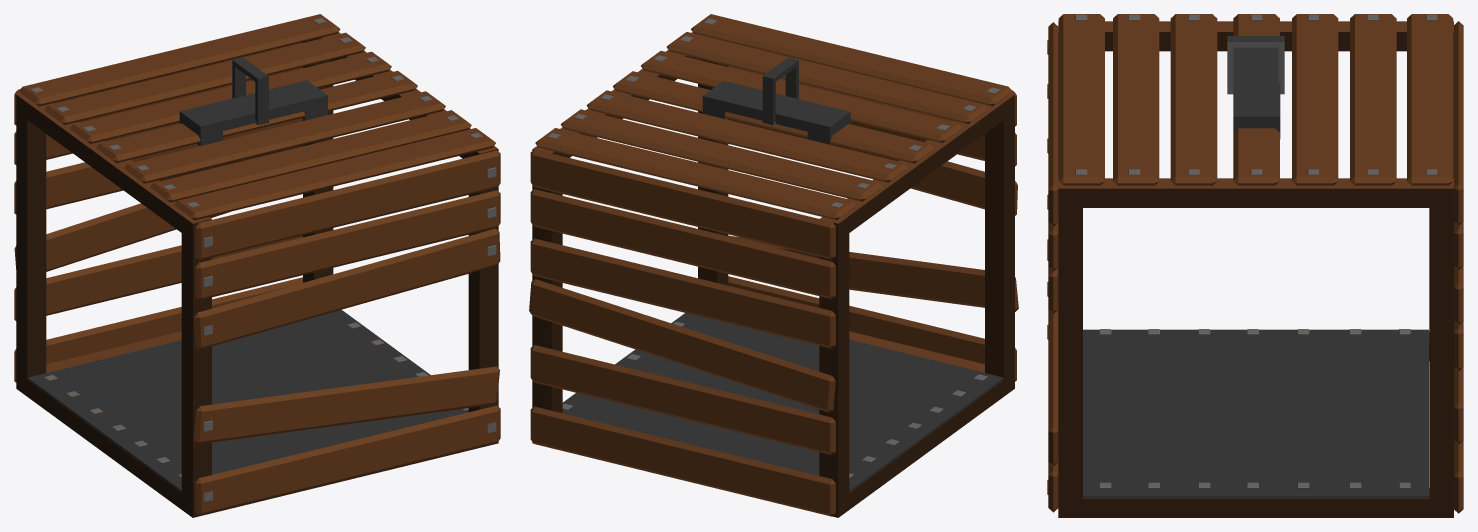
File: WoodElevatorMetalFloor.fbx
The picture shows the model from 3 angles, left to right: view 1: azimuth 30°, elevation 25°; view 2: azimuth 150°, elevation 25°; view 3: azimuth 270°, elevation 25°; orthographic projection. The views are drawn at different scales.
Visible parts, largest first — view 1: Cube, Cube.001; view 2: Cube, Cube.001; view 3: Cube, Cube.001.
Part boxes in pixels (x1,y1,x2,y2): Cube: [14, 14, 500, 517]; Cube.001: [27, 309, 468, 492]; Cube: [529, 14, 1018, 517]; Cube.001: [562, 313, 1003, 492]; Cube: [1047, 14, 1463, 517]; Cube.001: [1083, 329, 1428, 498].
Bounding box in the file's own units: 252 × 273 × 263.
